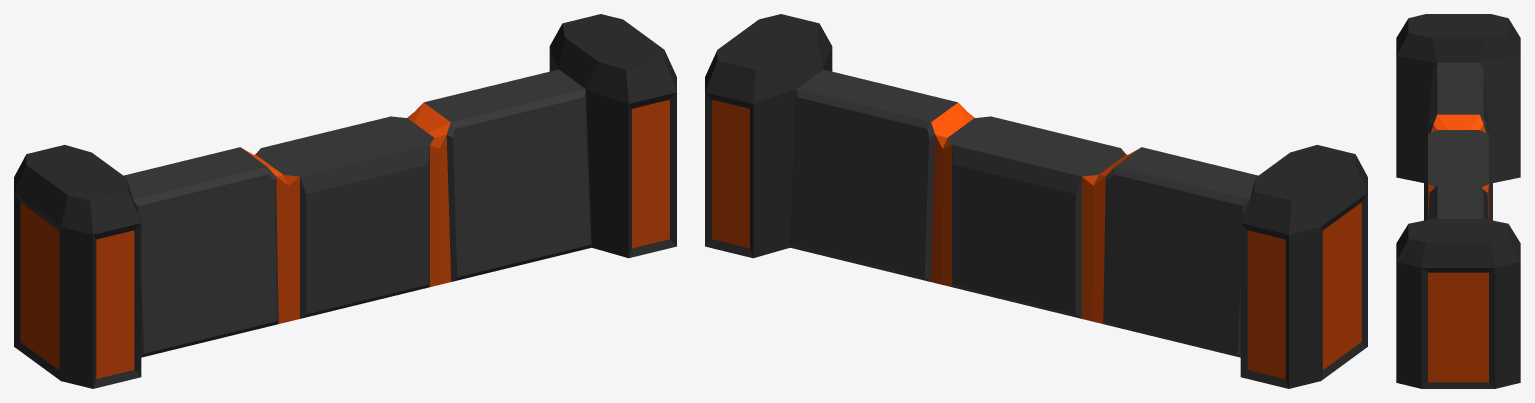
The model's file is Wall03.fbx.
3 renders of one model, left to right at view 1: azimuth 30°, elevation 25°; view 2: azimuth 150°, elevation 25°; view 3: azimuth 270°, elevation 25°, orthographic. The views are drawn at different scales.
Parts seen in each view (by area): view 1: Wall03; view 2: Wall03; view 3: Wall03.
Part boxes in pixels (x1,y1,x2,y2): Wall03: [14, 14, 676, 388]; Wall03: [705, 14, 1367, 388]; Wall03: [1396, 14, 1520, 388].
Size of the model in its own units: 444 by 125 by 98.78.
